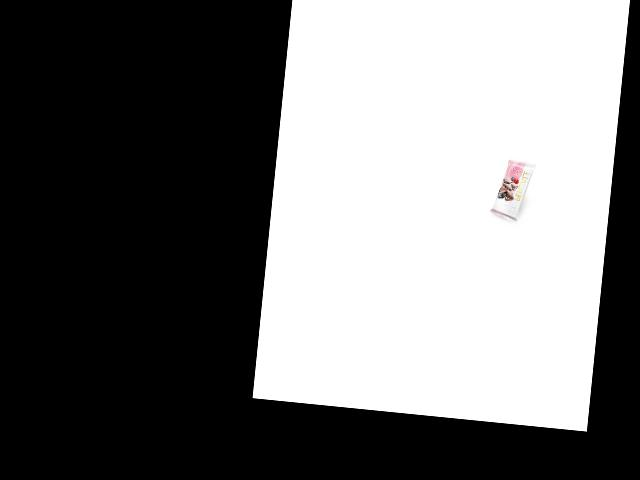chocolate: (488, 158, 536, 220)
